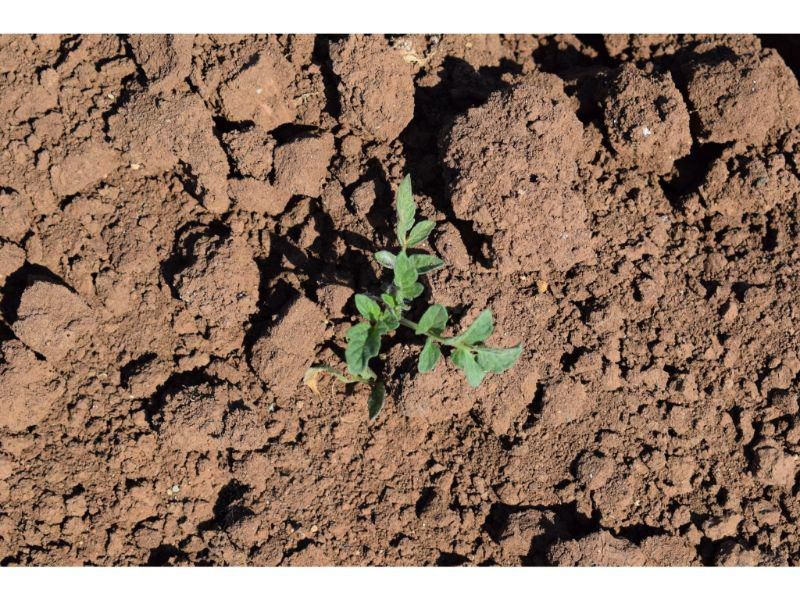tomato: (345, 173, 524, 384)
